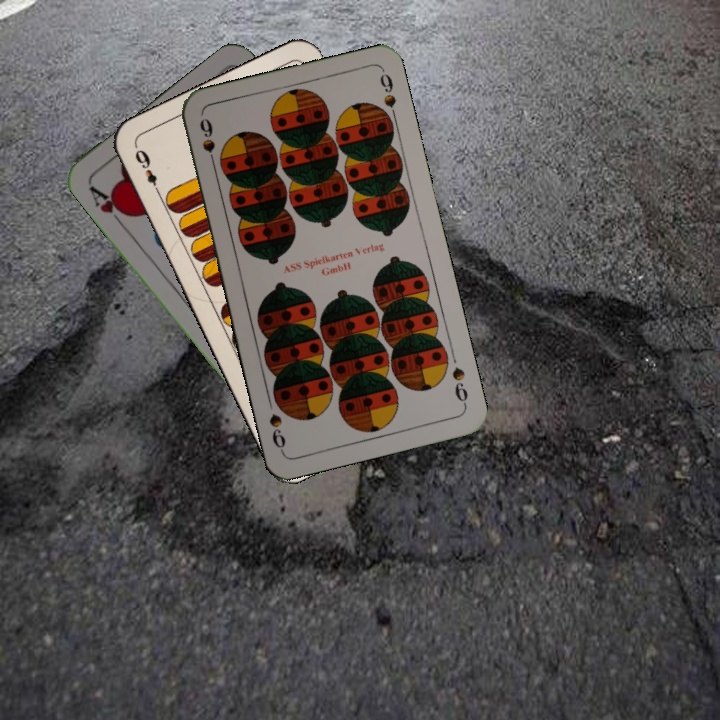E9: (130, 143, 163, 198)
HA: (84, 181, 132, 229)
S9: (195, 114, 219, 172), (448, 363, 471, 409)
